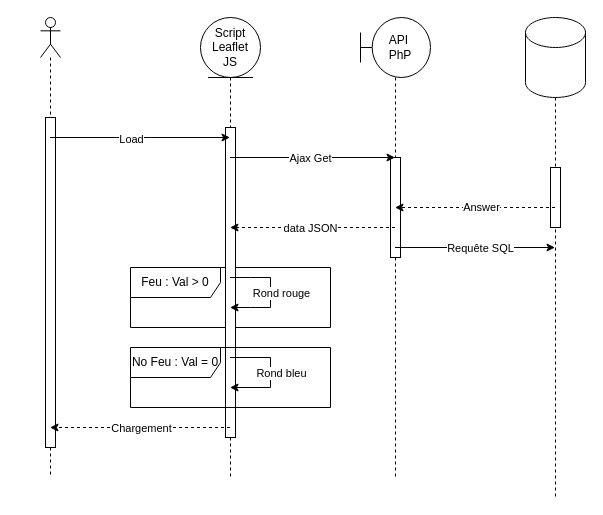
Image size: 603x515. Some labels were removed from this diagram. The shapes that lost their labels are listed below. From the top down, each one's box as (x1, y1, x2, y2) in pixels, then its label:
(524, 16, 586, 98): BDD SQL
(40, 16, 60, 478): Page Visualisation HTML
